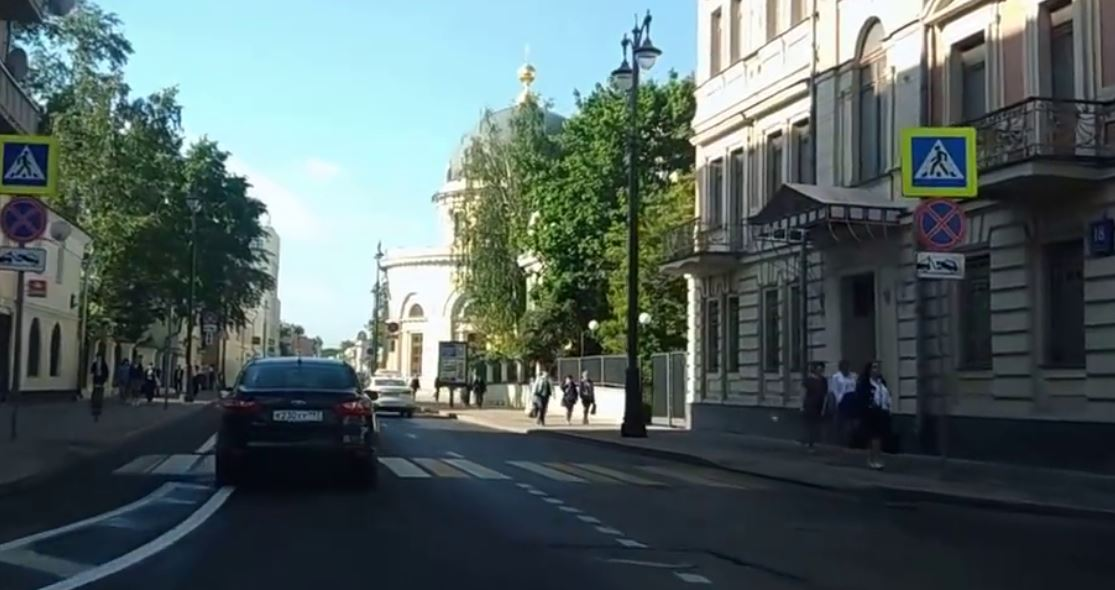Yaya Gecidi: (914, 137, 965, 186), (3, 140, 51, 189)
